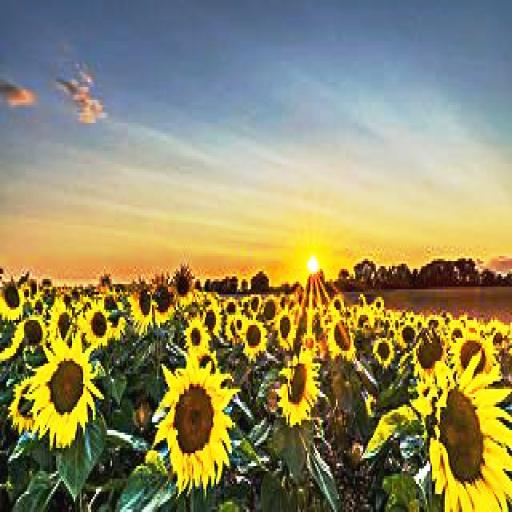sunflower: (417, 353, 512, 511), (157, 364, 237, 494), (29, 338, 99, 448), (278, 348, 322, 430), (451, 335, 493, 384), (125, 274, 155, 338), (147, 271, 176, 325), (168, 261, 197, 310), (326, 317, 356, 361), (82, 305, 112, 348), (240, 318, 266, 358), (182, 317, 208, 356), (371, 335, 394, 366), (276, 310, 294, 346)
